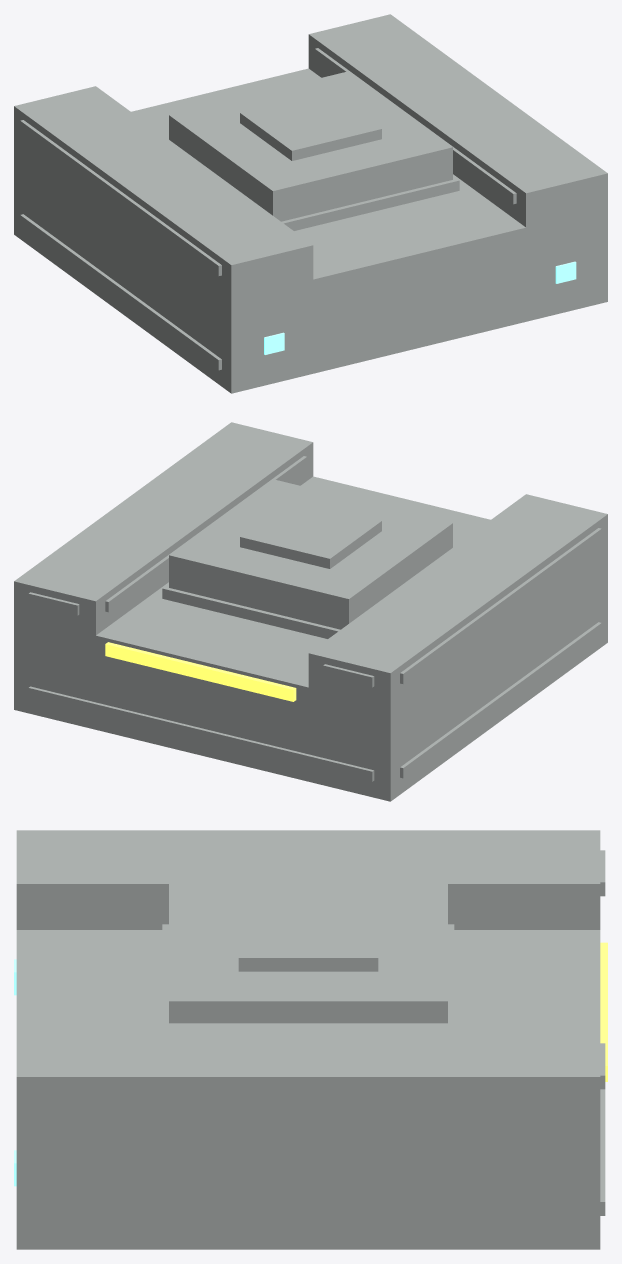
The model's file is retail_complex_lod0-C31cWi97.glb.
3 renders of one model, top to bottom at view 1: azimuth 30°, elevation 25°; view 2: azimuth 150°, elevation 25°; view 3: azimuth 270°, elevation 25°, orthographic. The views are drawn at different scales.
Visible parts, largest first — view 1: body, window; view 2: body, sign; view 3: body, sign.
Part boxes in pixels (x1,y1,x2,y2): body: (14,14,607,393); window: (264,261,576,354); body: (14,422,607,801); sign: (105,642,296,701); body: (16,830,605,1249); sign: (600,942,607,1081).
Size of the model in its own units: 0.928 by 0.344 by 0.936.
